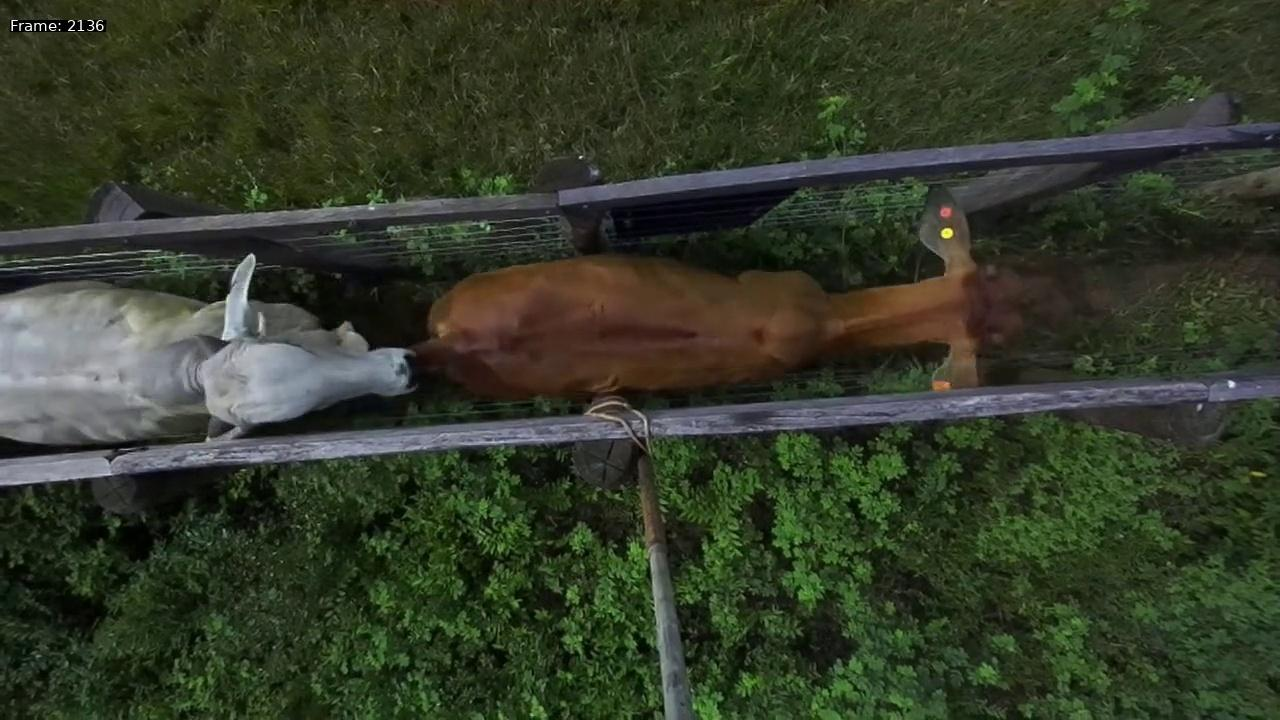cattle: (375, 155, 1062, 436)
